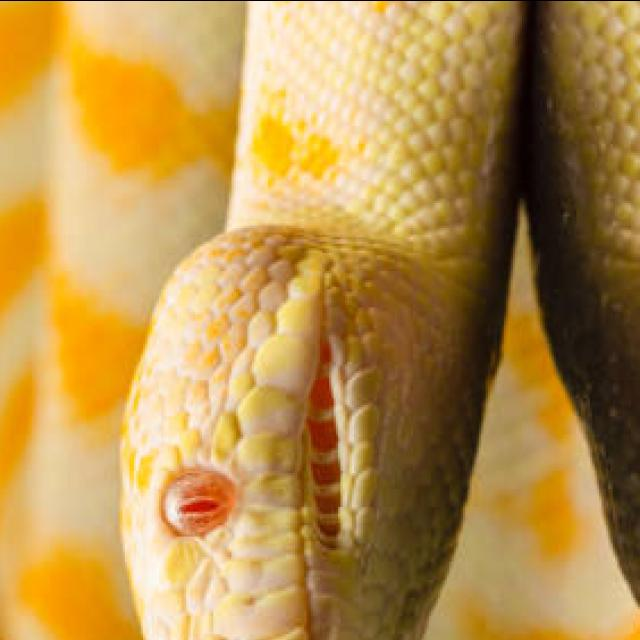snake: (0, 0, 542, 640)
